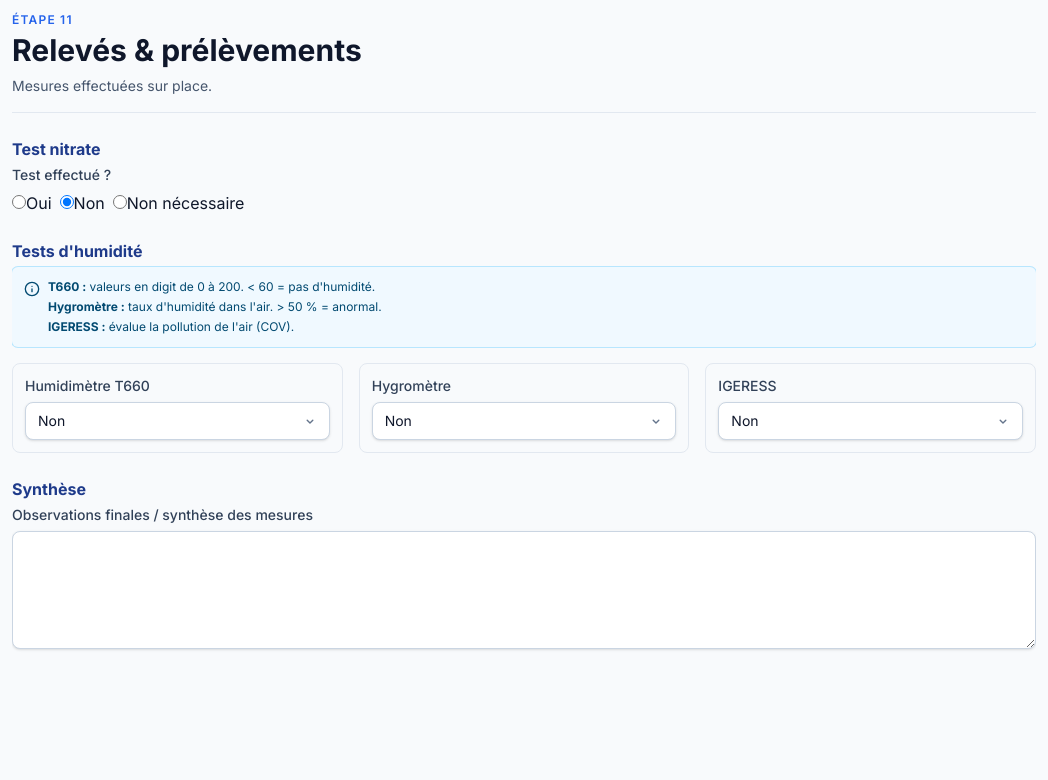
Test case: Step11Releves › Tests T660 / Hygromètre / IGERESS › affiche la textarea T660Details quand testT660=Oui
This screenshot has width=1048, height=780.
Select "Oui" in the dropdown labelled "Humidimètre T660" at (177, 421), box [25, 402, 330, 440]
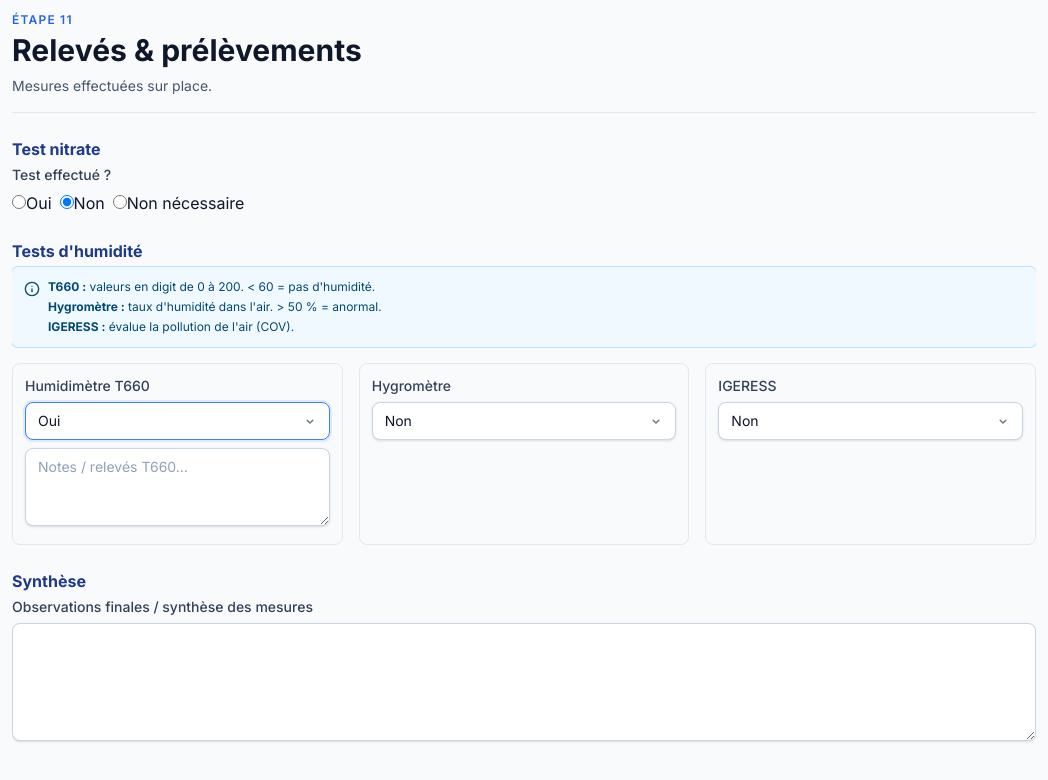
Check: the label "Oui" is shown, box [12, 191, 52, 215]
Check: the text box with placeholder "Notes / relevés T660…" is shown, box [25, 448, 330, 526]
